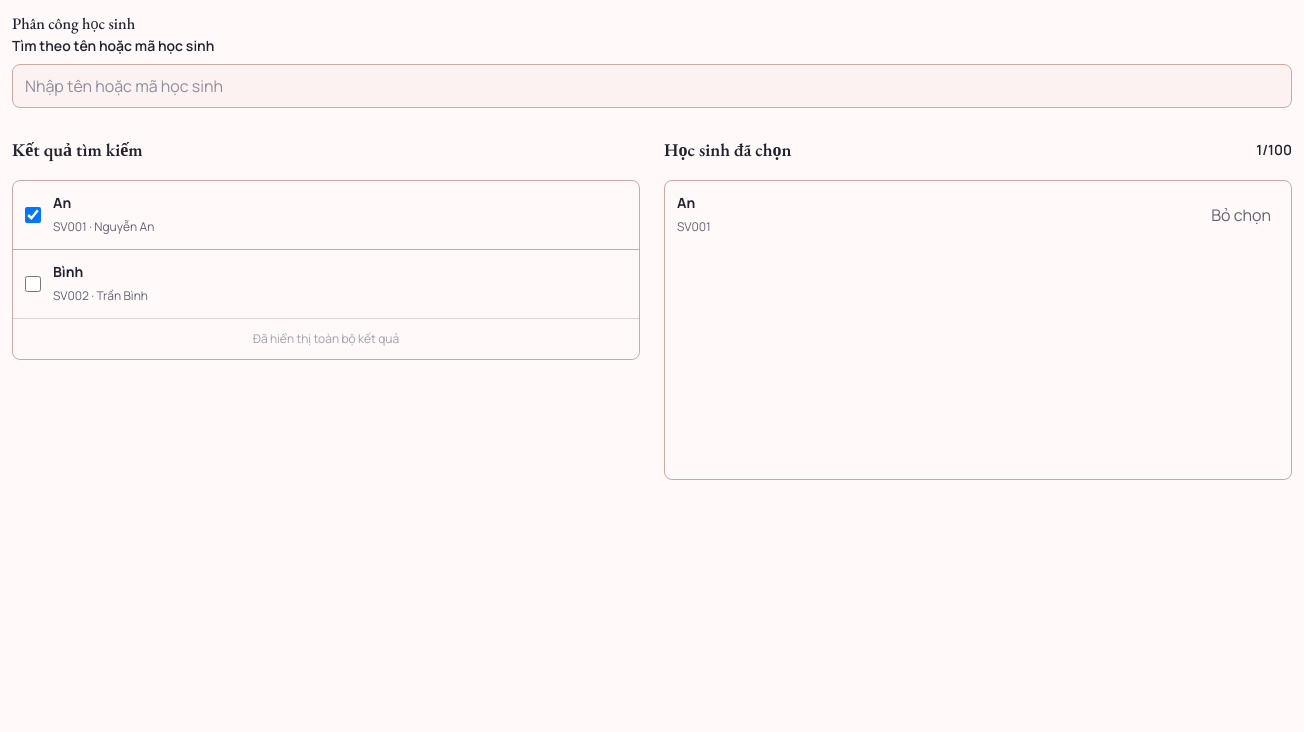
Test: StudentAssignmentStep › removes selected students and shows the empty-selection validation
Click the button with aria-label "Bỏ chọn An".
click(1241, 215)  # box [1203,199,1279,231]
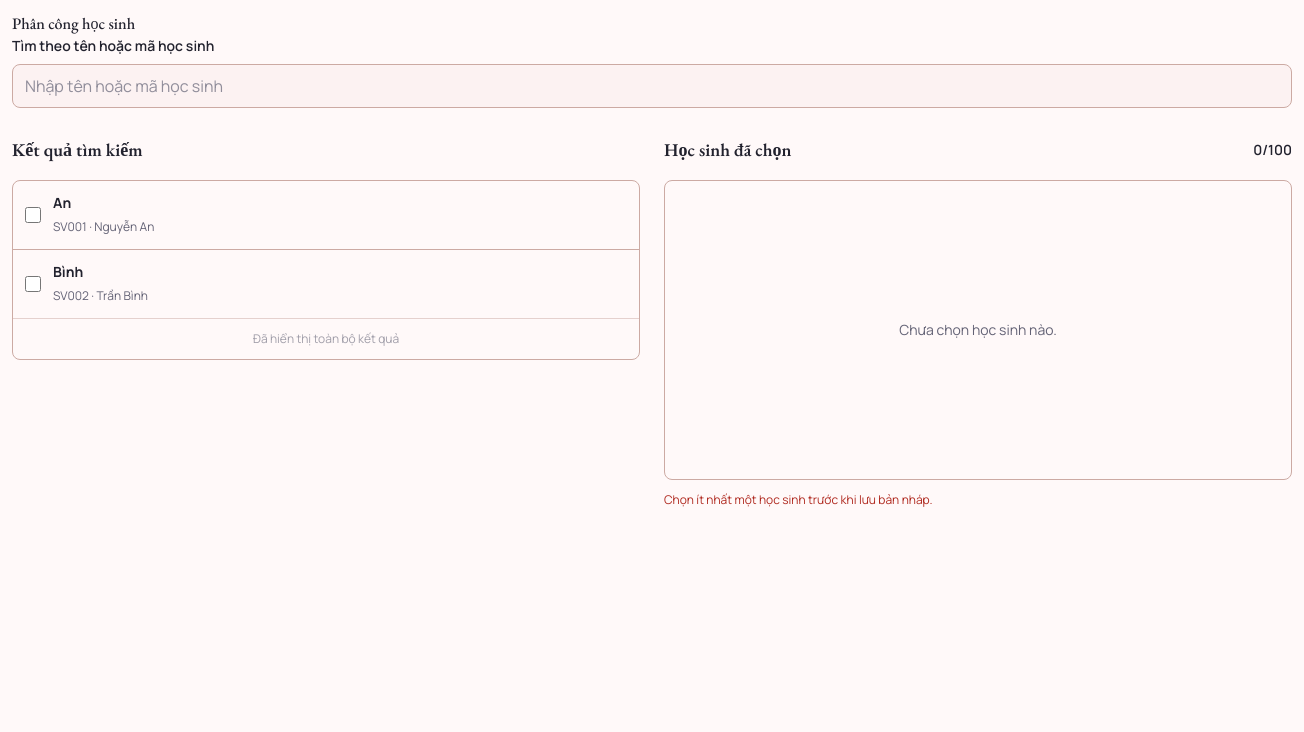
Check: the text "Chưa chọn học sinh nào." is shown, box [899,320,1057,339]
Check: the message shows "Chọn ít nhất một học sinh", box [664,491,932,508]
